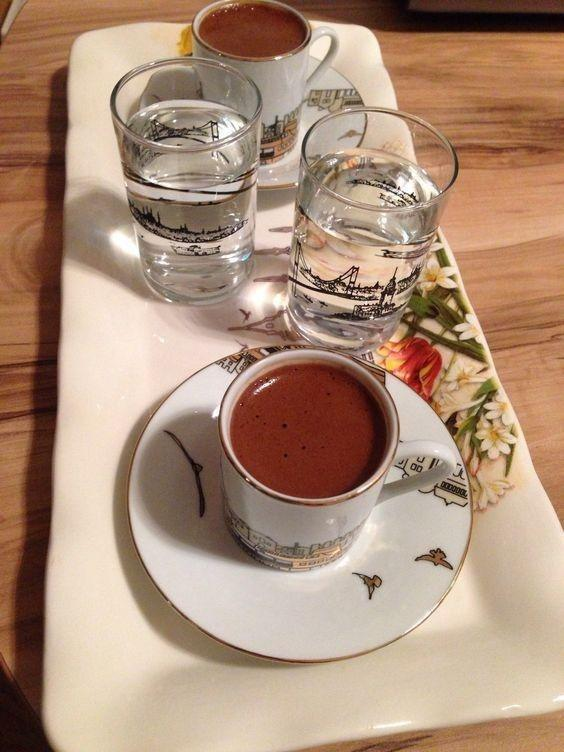cup-handle: (216, 348, 456, 572), (190, 1, 341, 166)
glass-normal: (284, 105, 459, 348), (108, 55, 264, 305)
